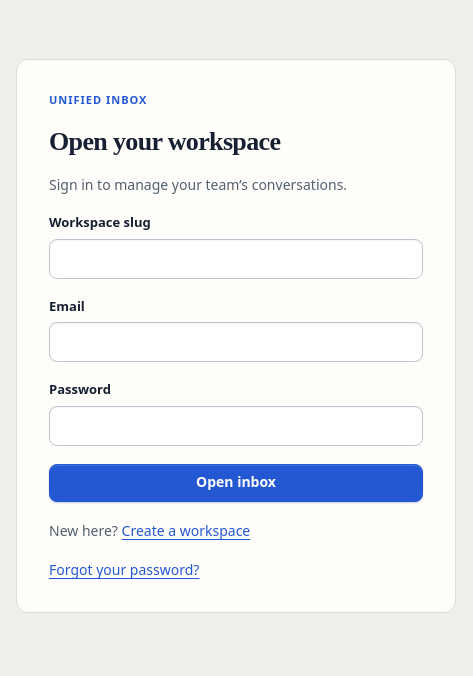
Test: LoginPage › keeps credentials and focuses the server error when login is rejected
Type "acme" into the field labelled "Workspace slug" at (236, 259), box [49,239,423,279]
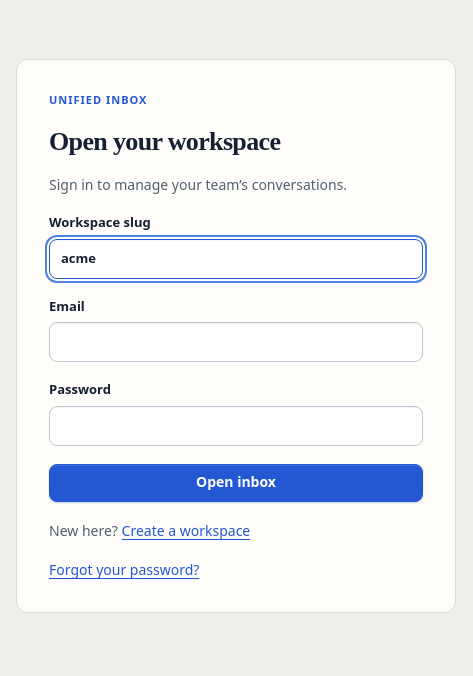
Type "agent@acme.test" into the field labelled "Email" at (236, 342), box [49,322,423,362]
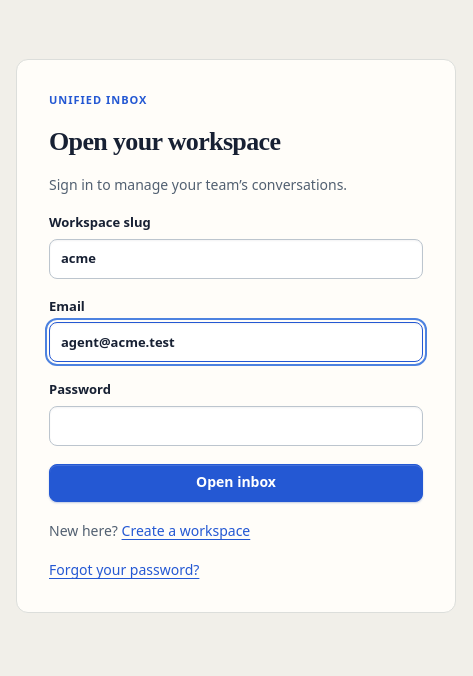
Type "demo" into the password field labelled "Password" at (236, 426), box [49,406,423,446]
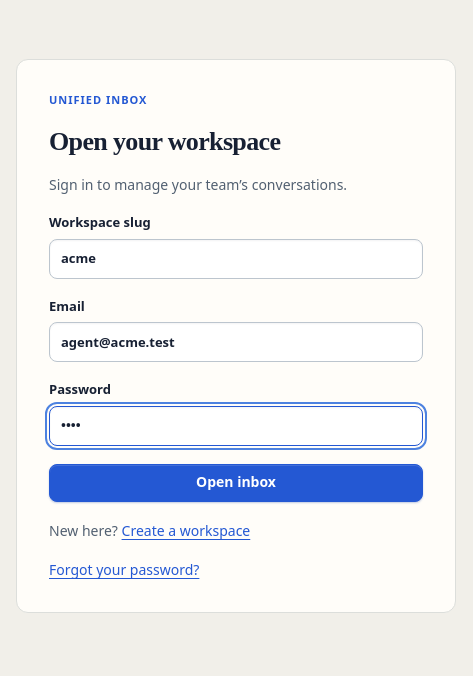
Click the button "Open inbox" at (236, 483), box [49,464,423,502]
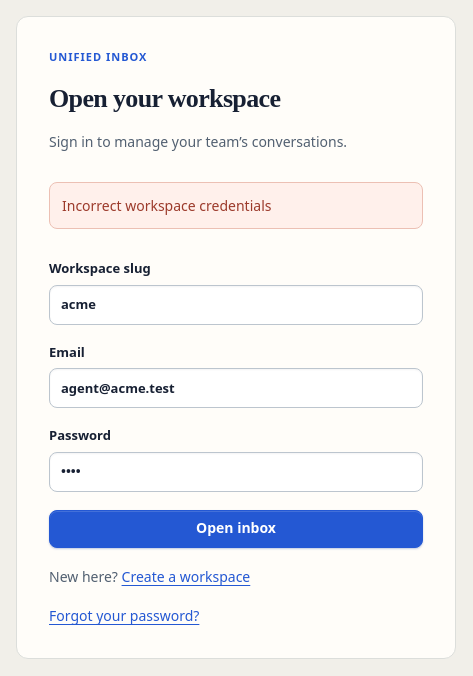
Check: the message reads "Incorrect workspace credentials", box [62,196,272,215]
